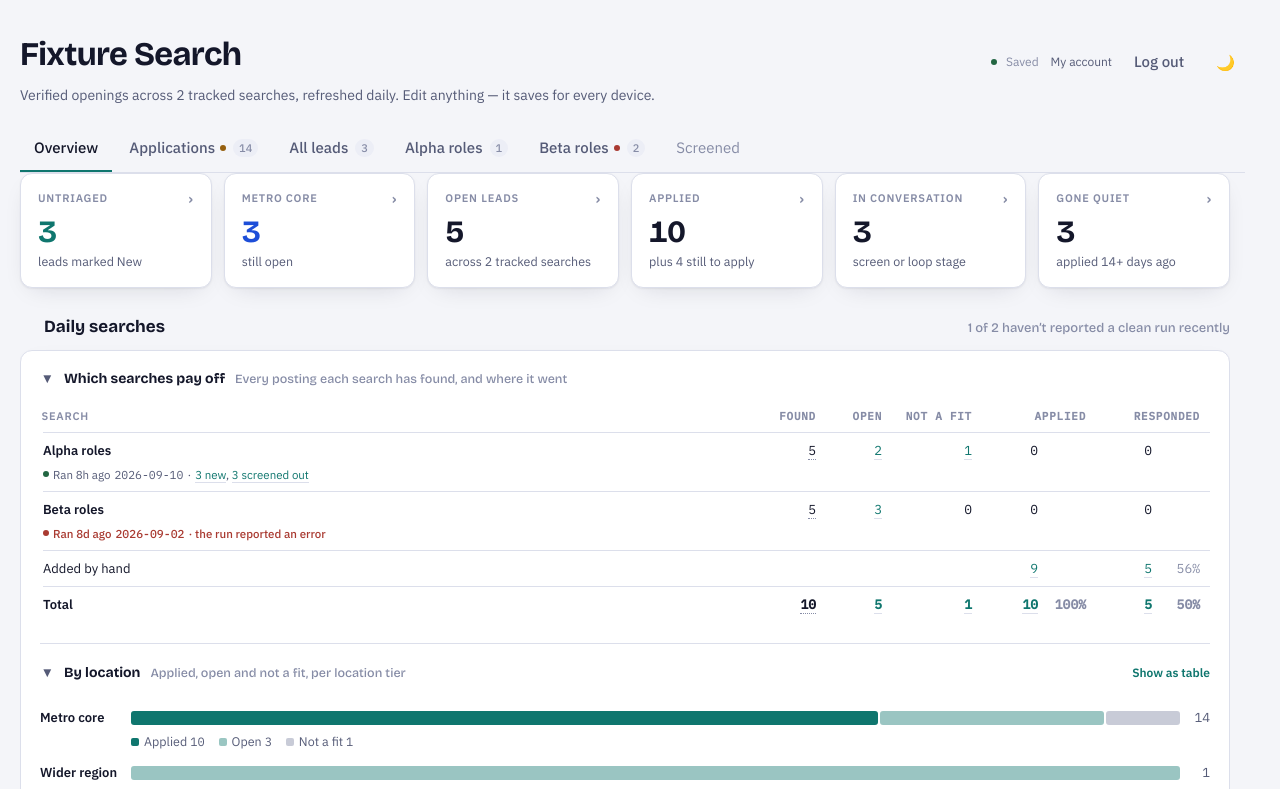
Test: drill-downs: the number and the rows it opens › {} opens exactly the rows it counted
Check: the heading "Fixture Search" is shown, box [20, 34, 241, 74]
Click the link "Gone quiet › 3 applied 14+ days ago".
click(1134, 230)  # box [1038, 173, 1230, 288]
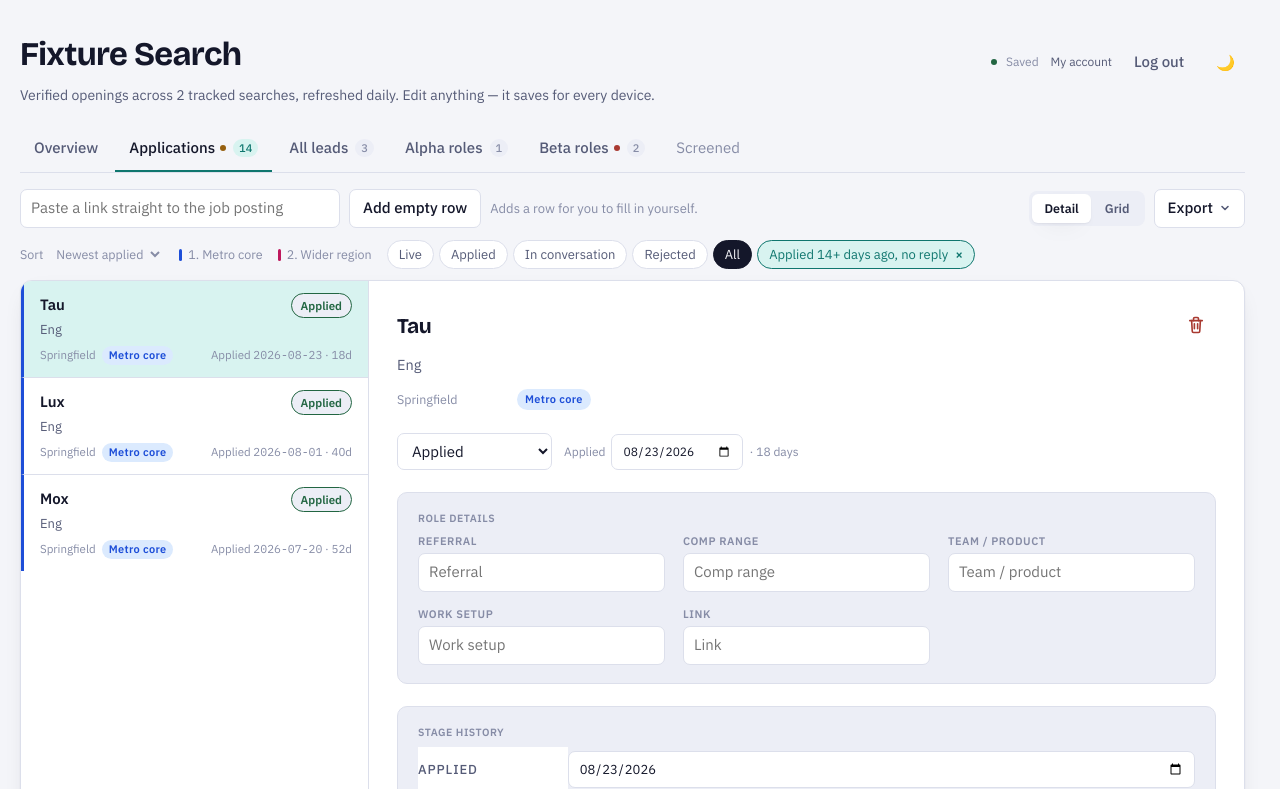
Check: the link with aria-label "Clear filter" shows "Applied 14+ days ago", box [757, 240, 975, 269]
